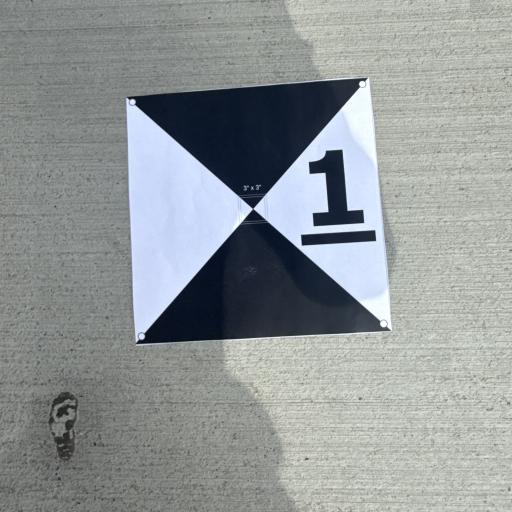target1: (121, 74, 400, 343)
